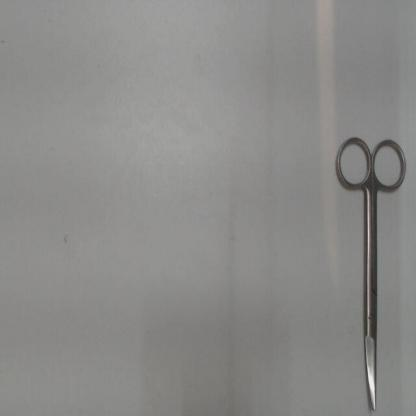Curved Mayo Scissors: (332, 128, 412, 414)
